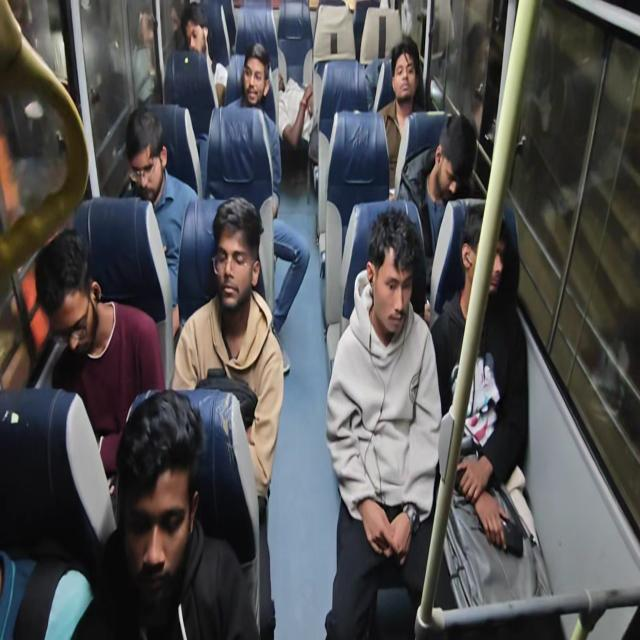person: (110, 346, 234, 637), (421, 106, 512, 265), (450, 214, 540, 369), (196, 200, 279, 356), (24, 243, 119, 377), (359, 208, 428, 328), (120, 112, 186, 235), (276, 40, 320, 162), (391, 39, 430, 128), (234, 17, 266, 101), (181, 13, 225, 68)
